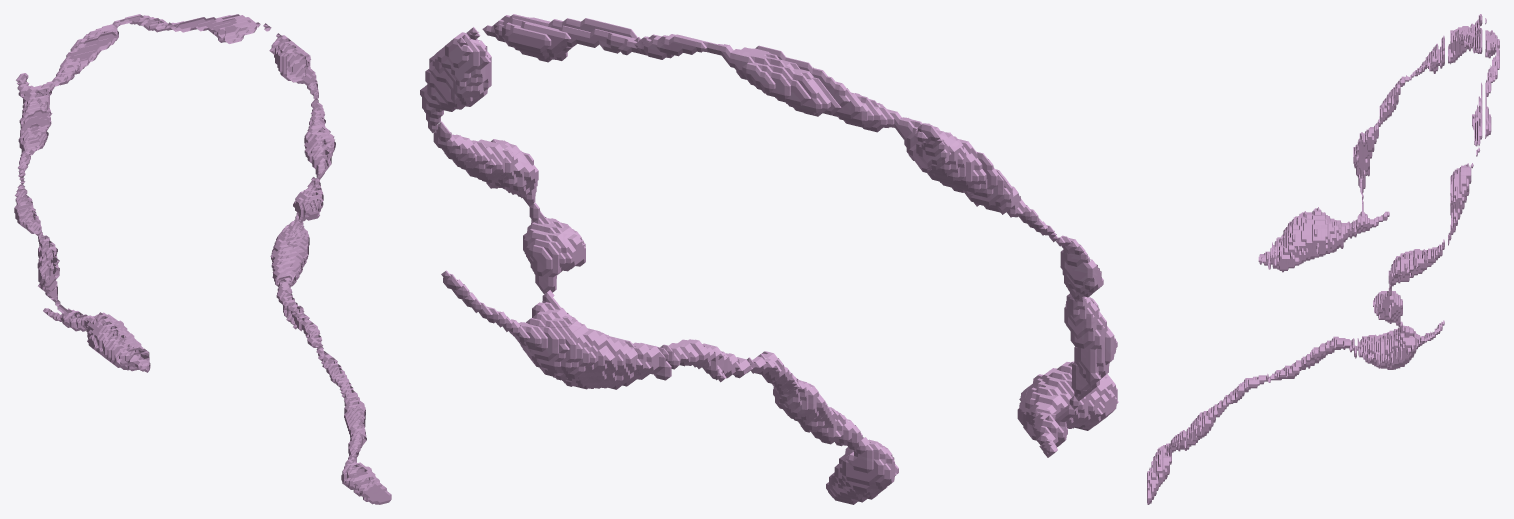
File: SVV_RICR.gltf
The picture shows the model from 3 angles, left to right: view 1: azimuth 30°, elevation 25°; view 2: azimuth 150°, elevation 25°; view 3: azimuth 270°, elevation 25°; orthographic projection. The views are drawn at different scales.
Parts seen in each view (by area): view 1: RICR; view 2: RICR; view 3: RICR.
Part boxes in pixels (x1,y1,x2,y2): RICR: (14,14,391,504); RICR: (420,14,1118,504); RICR: (1147,14,1499,504).
Size of the model in its own units: 69684 by 78375 by 61605.
